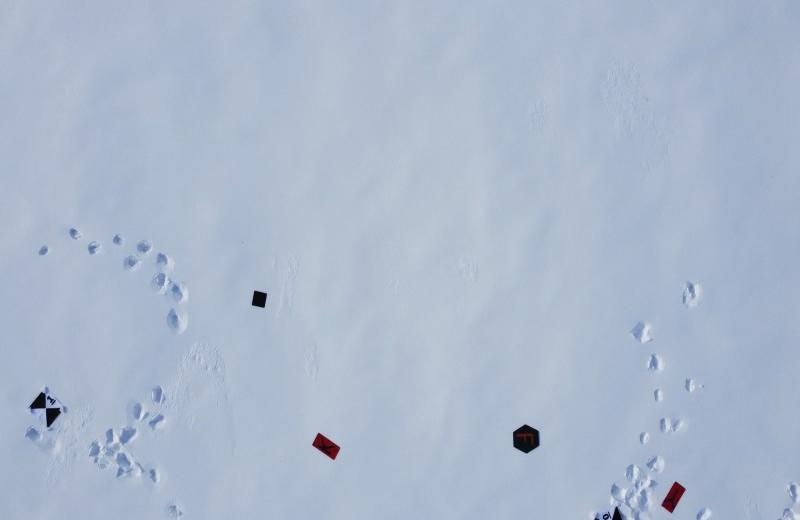Hexagon: (512, 420, 540, 454)
Rectangle: (310, 431, 342, 462), (661, 476, 686, 514)
Square: (249, 287, 268, 309)
